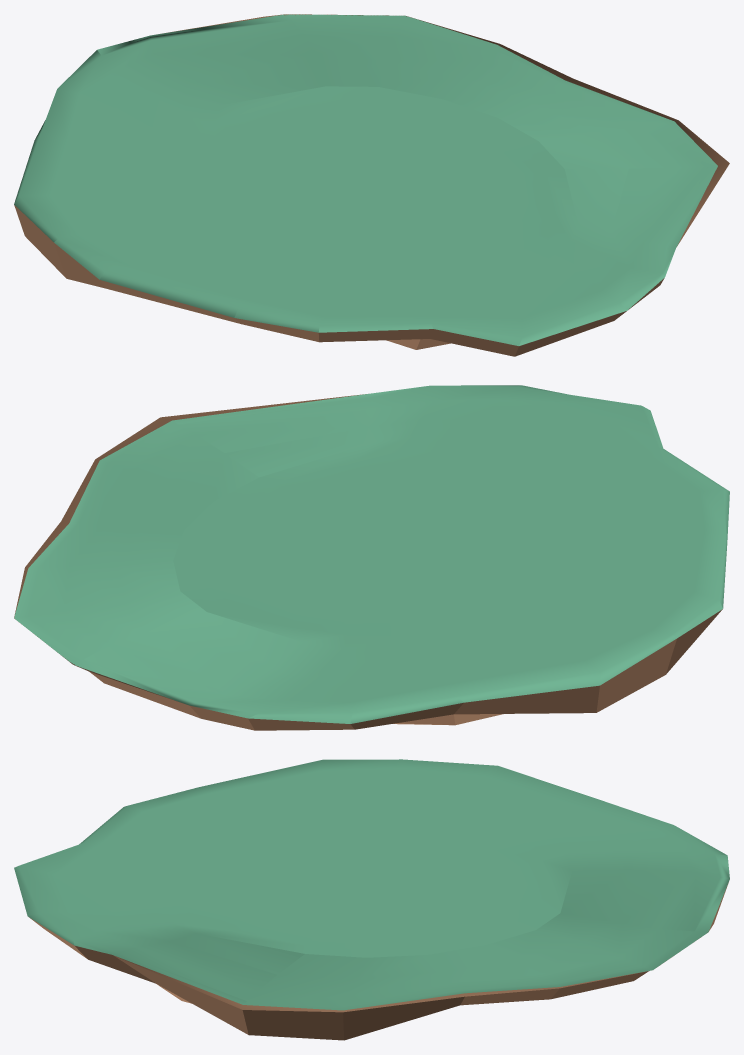
File: island_top.fbx
3 views of the same model, one above another, from view 1: azimuth 30°, elevation 25°; view 2: azimuth 150°, elevation 25°; view 3: azimuth 270°, elevation 25° (orthographic). The views are drawn at different scales.
Visible parts, largest first — view 1: pCylinder1; view 2: pCylinder1; view 3: pCylinder1.
Part boxes in pixels (bbox=[...]): pCylinder1: bbox=[14, 14, 729, 356]; pCylinder1: bbox=[14, 385, 729, 730]; pCylinder1: bbox=[14, 759, 729, 1040].
Size of the model in its own units: 26.11 by 3.76 by 31.
